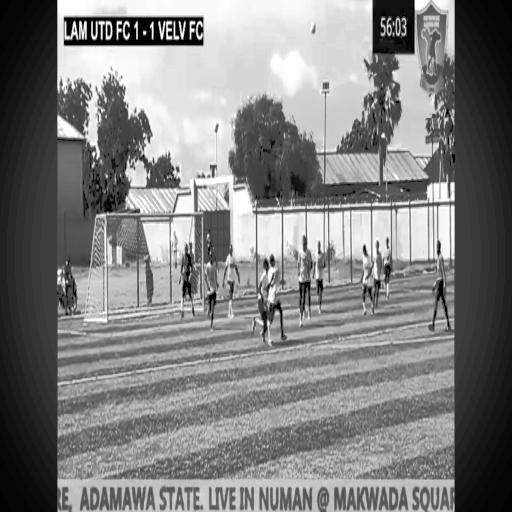ball: (309, 16, 317, 38)
keeper2: (176, 230, 196, 323)
referee: (426, 238, 452, 342)
team1: (267, 238, 288, 342), (201, 234, 219, 338), (294, 233, 312, 329), (314, 236, 326, 309)
team2: (356, 235, 374, 320), (256, 252, 270, 341), (225, 236, 237, 326), (383, 224, 393, 302)
